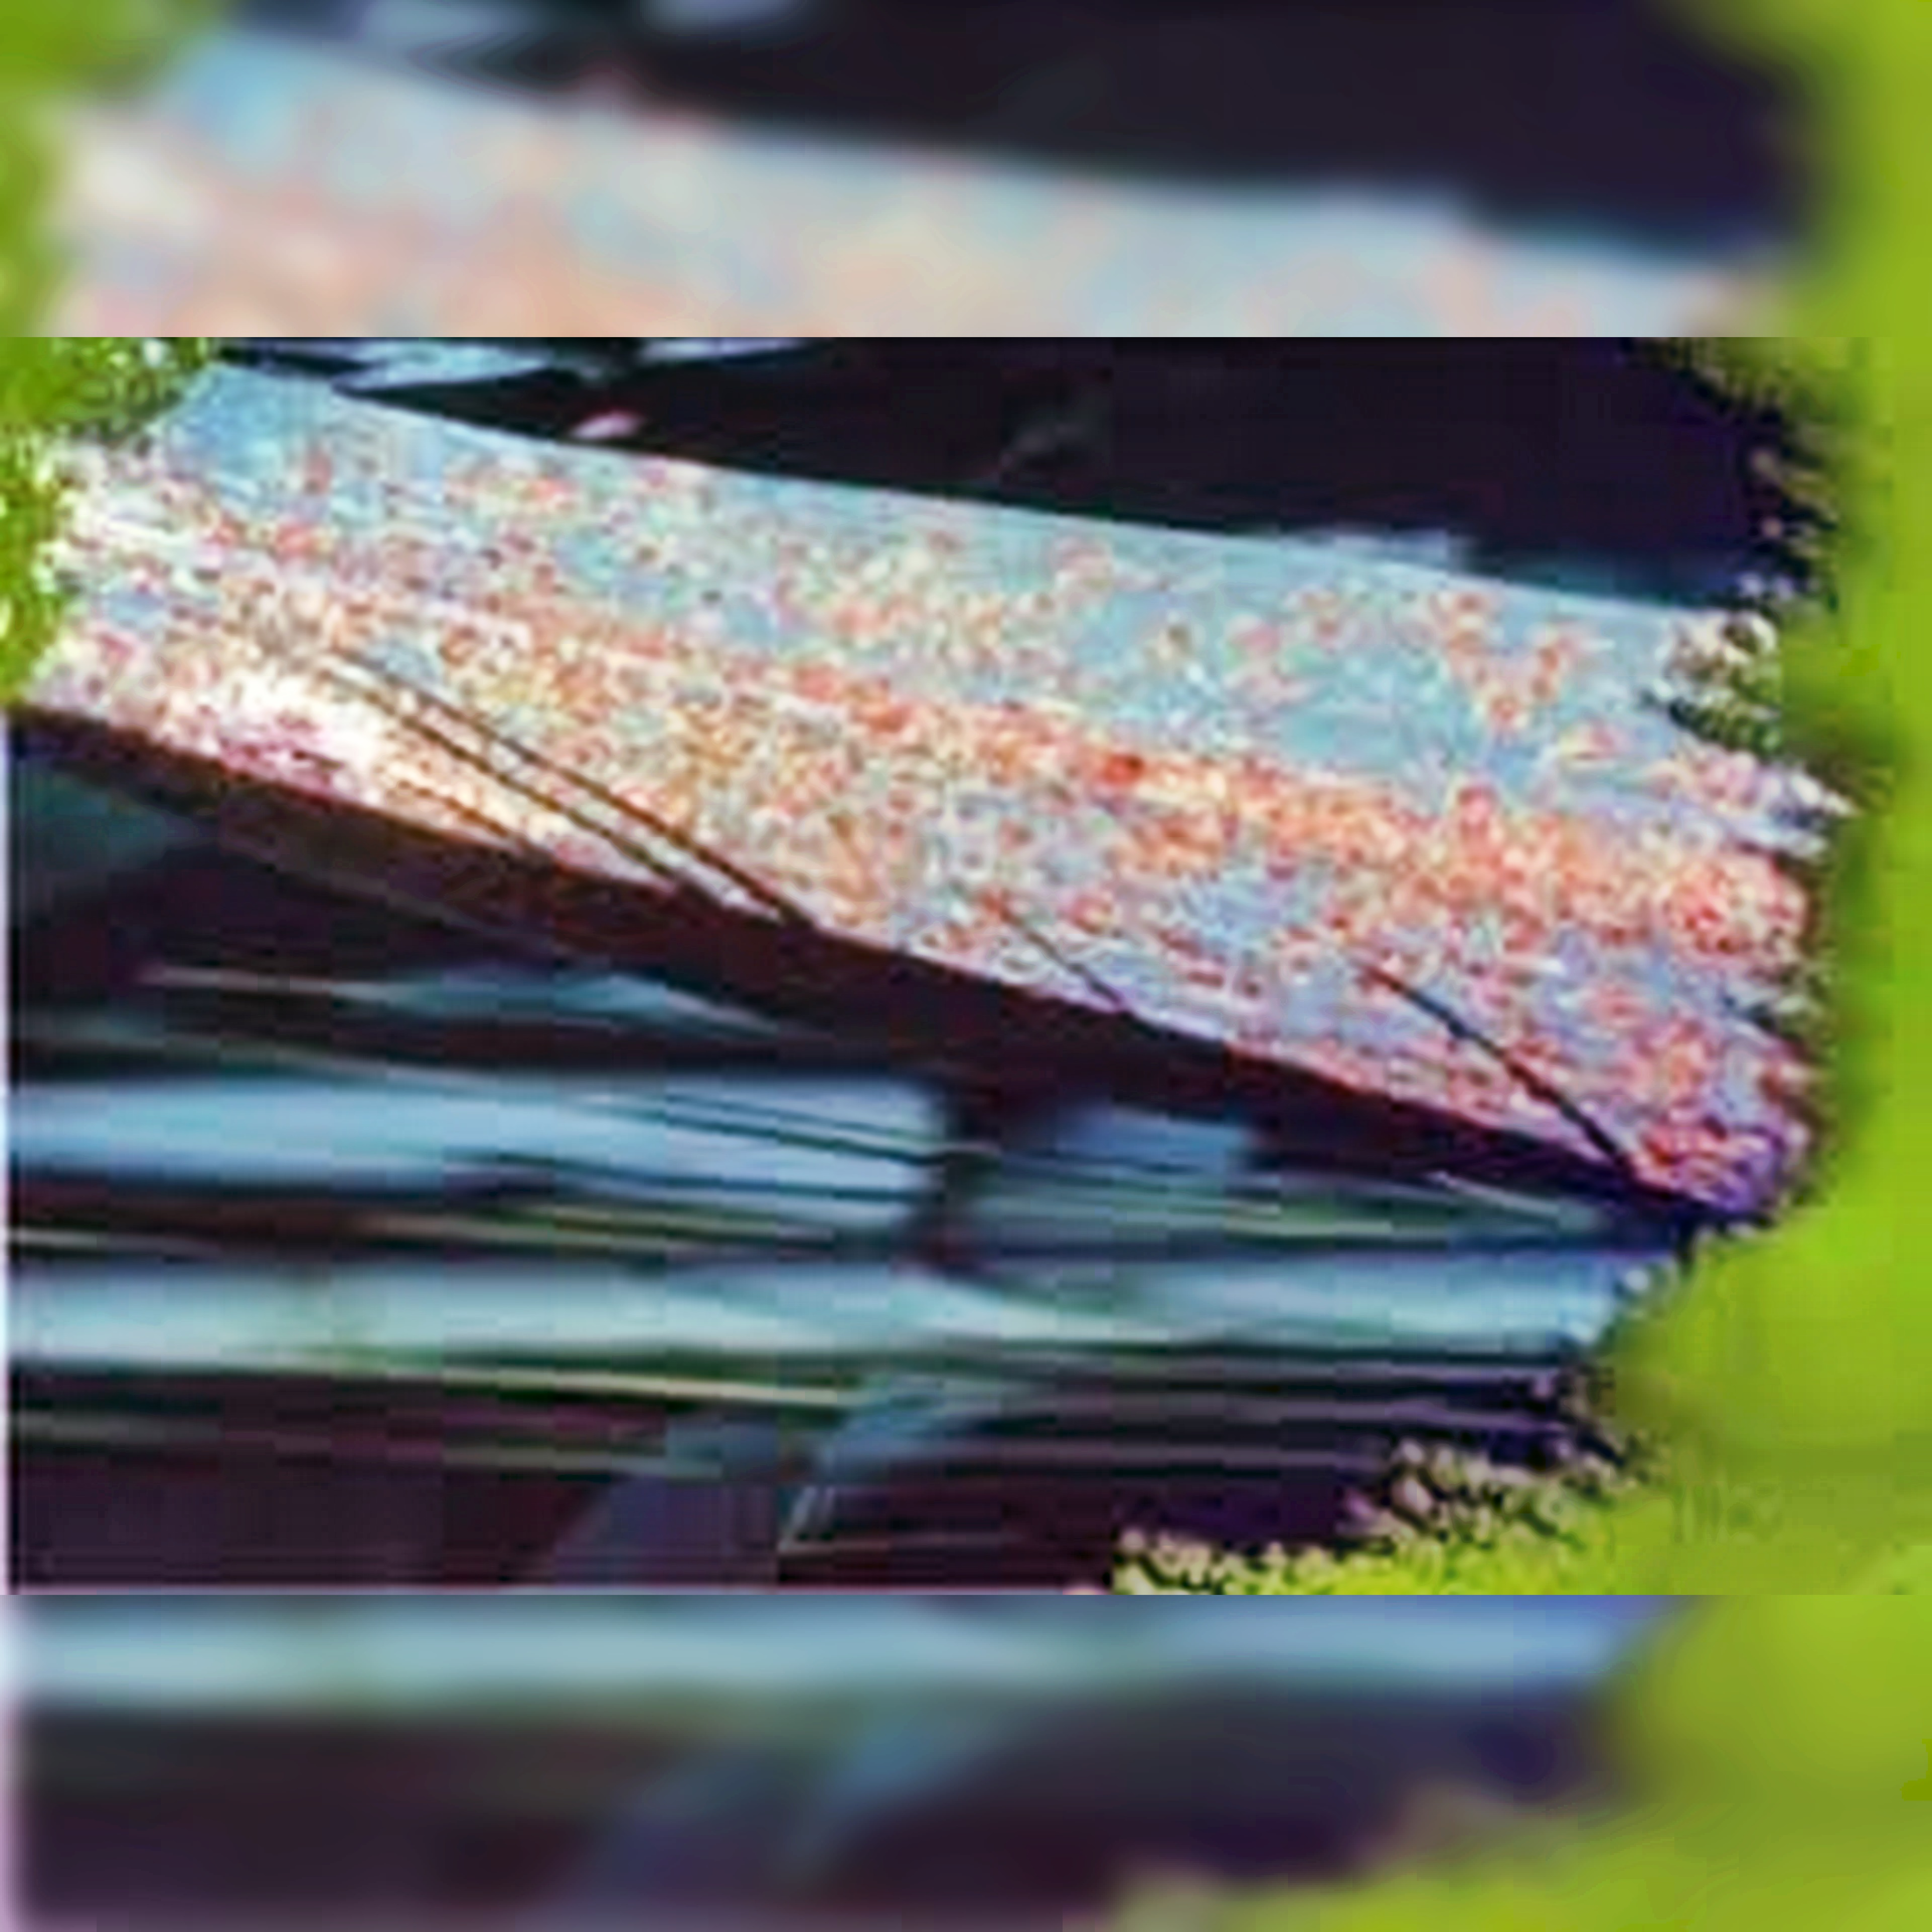Leaf Rust: (244, 448, 1279, 964)
